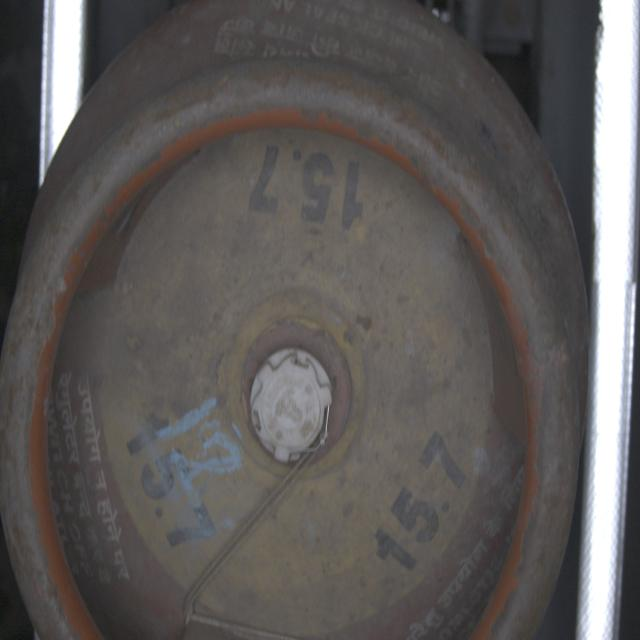Cap: (249, 350, 336, 470)
